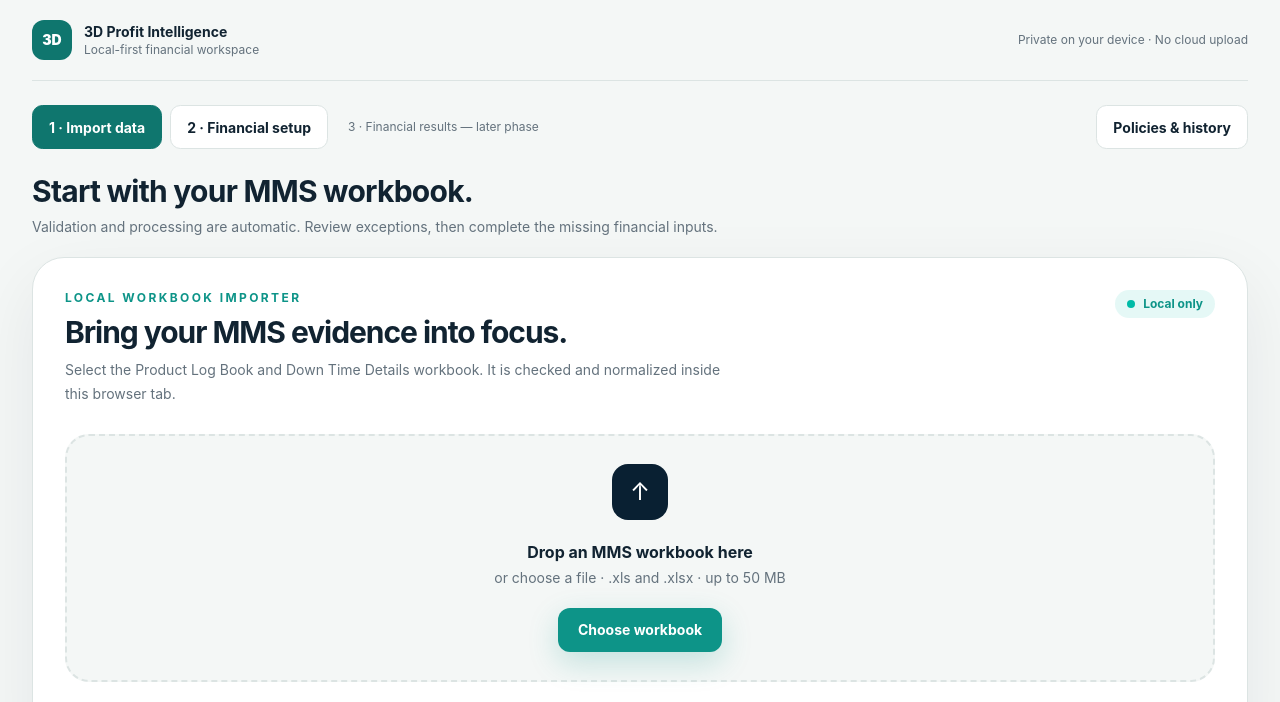
Test case: guided financial setup › shows a single primary workflow step and preserves state across navigation
Expected: the heading "Start with your MMS workbook." is shown, [32, 173, 473, 209]
Step 1. Click the button "2 · Financial setup" → (249, 127), box [170, 105, 328, 149]
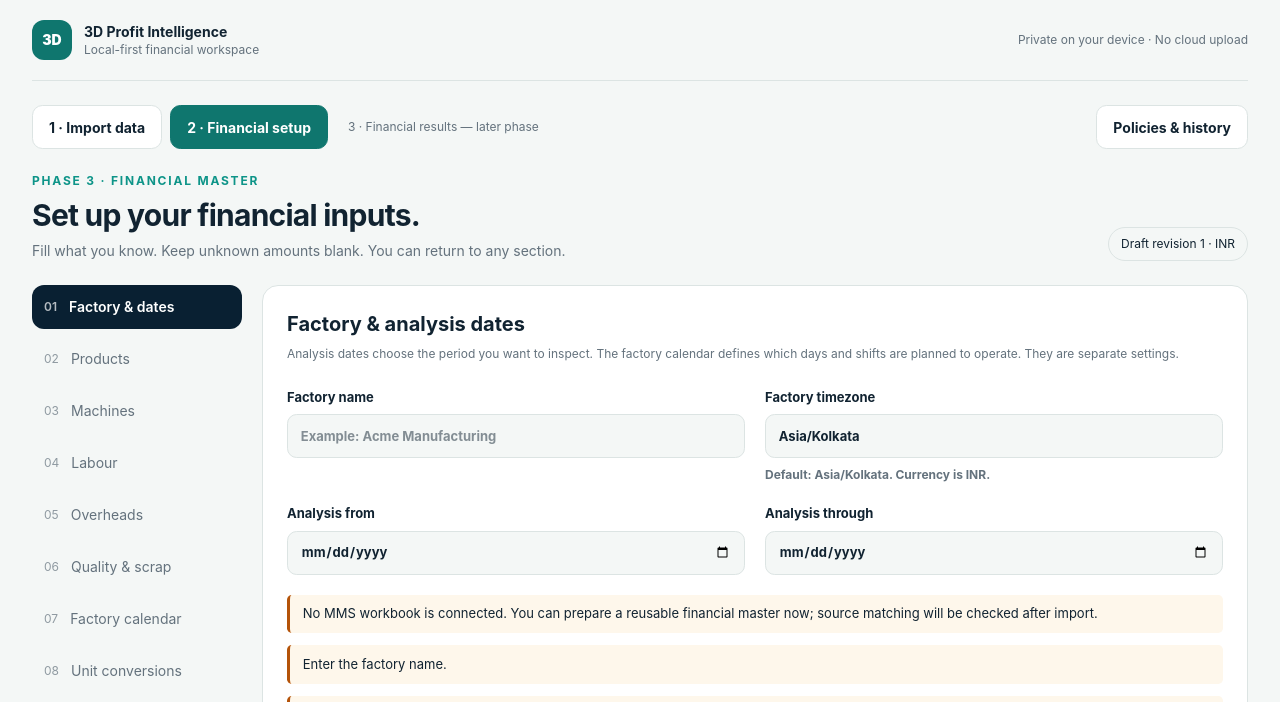
Step 2. Type "QA Factory" into the field labelled "Factory name" → (516, 436), box [287, 414, 745, 458]
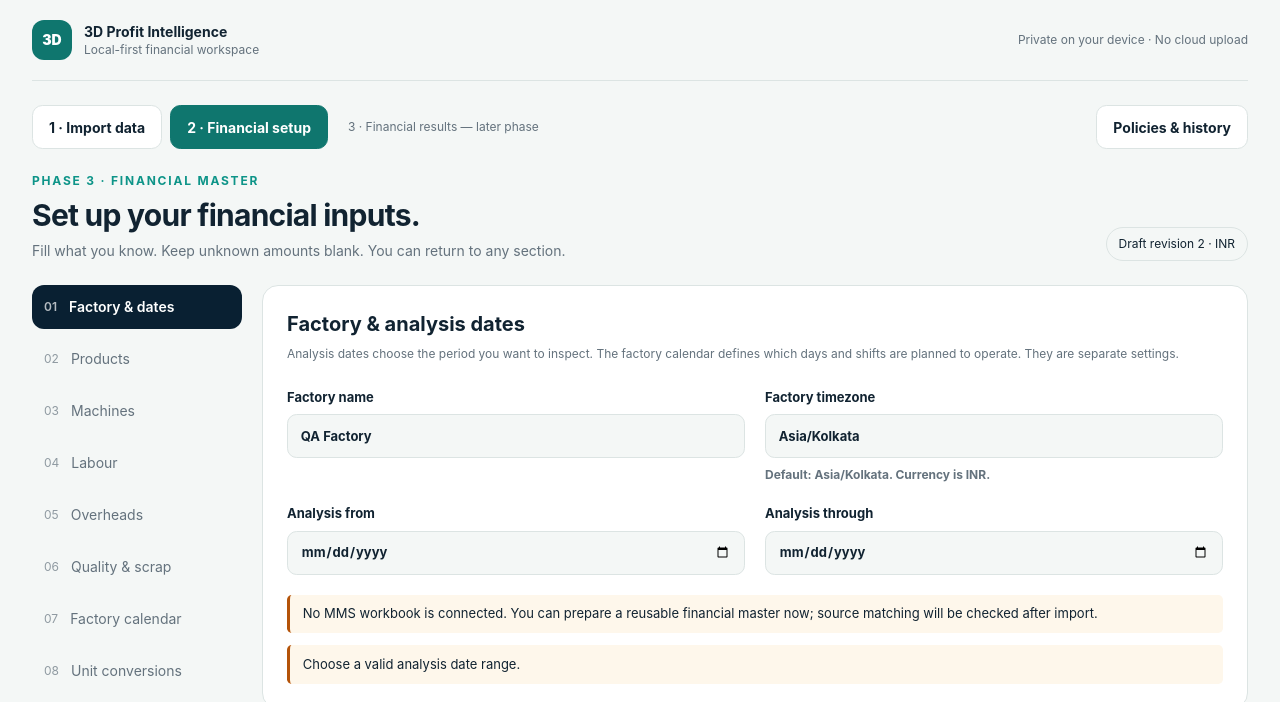
Step 3. Click the button "1 · Import data" → (97, 127), box [32, 105, 162, 149]
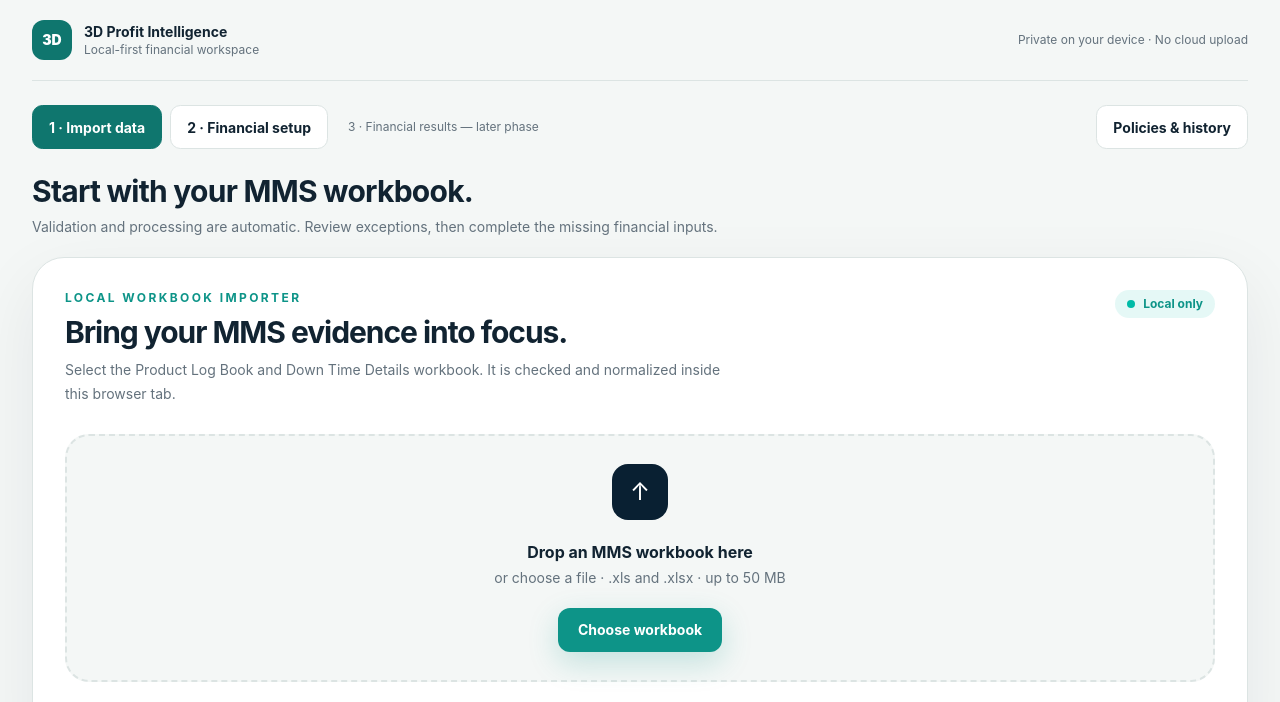
Step 4. Click the button "2 · Financial setup" → (249, 127), box [170, 105, 328, 149]
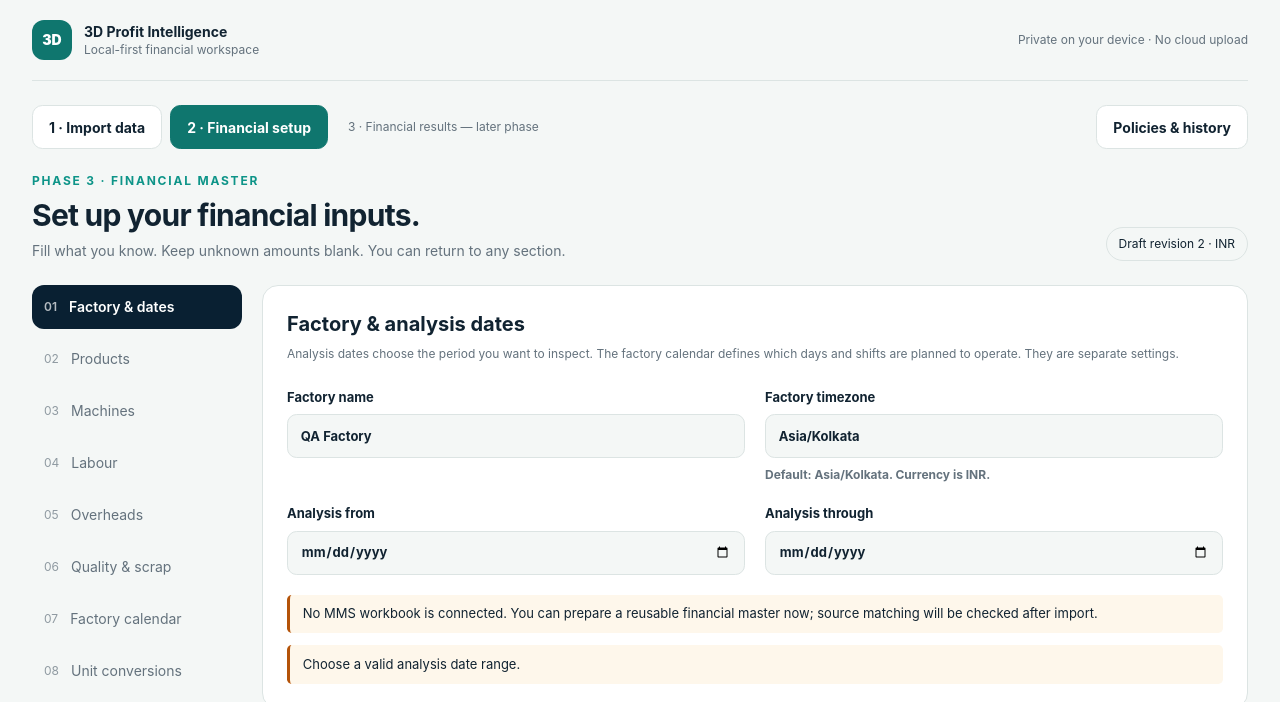
Result: the heading "Set up your financial inputs." is shown at [32, 197, 420, 233]
